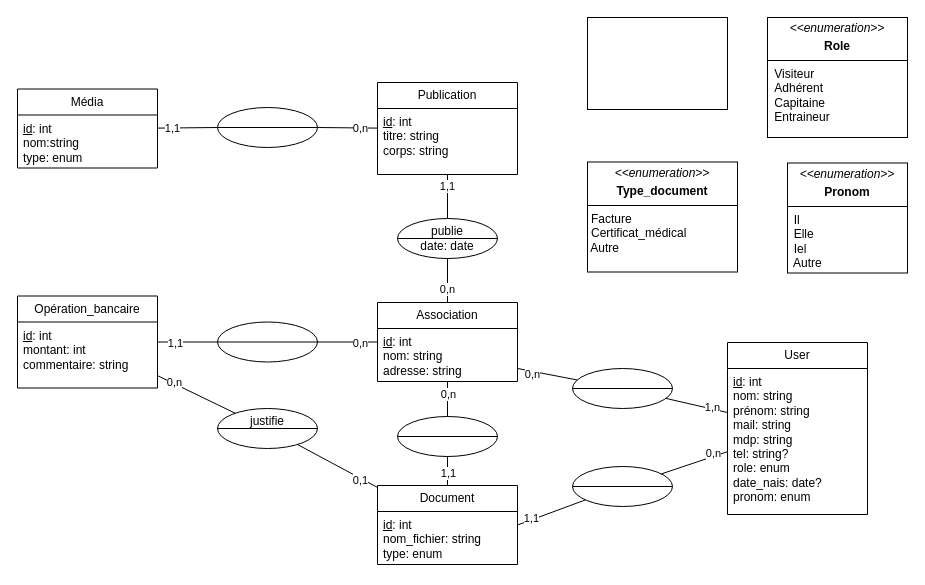
This 925x585 diagram has some shape labels left out. Here are the shapes that lost their labels. From the top down, the centre of each, then its label:
pixel 657 63: <<enumeration>> Type_media Vidéo Image
pixel 267 127: contient
pixel 267 341: effectue date: date
pixel 622 388: inscrit date: date
pixel 447 436: détient
pixel 622 486: upload date: date
